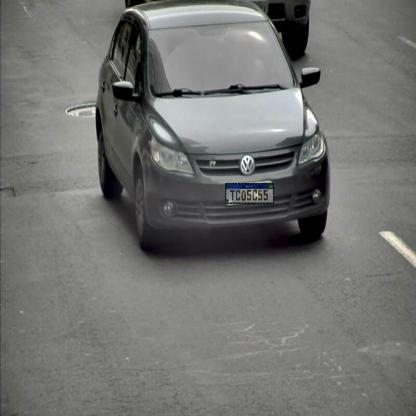PlacaM: (225, 183, 274, 204)
